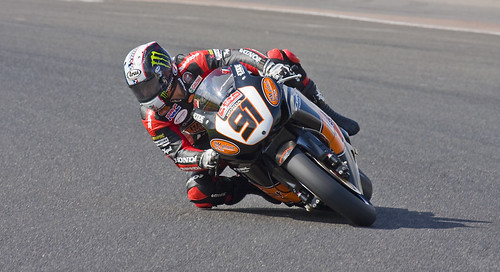helmet: (109, 36, 182, 117)
